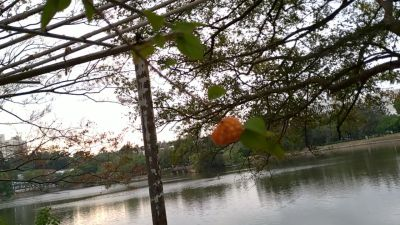eggs: (210, 115, 245, 145)
